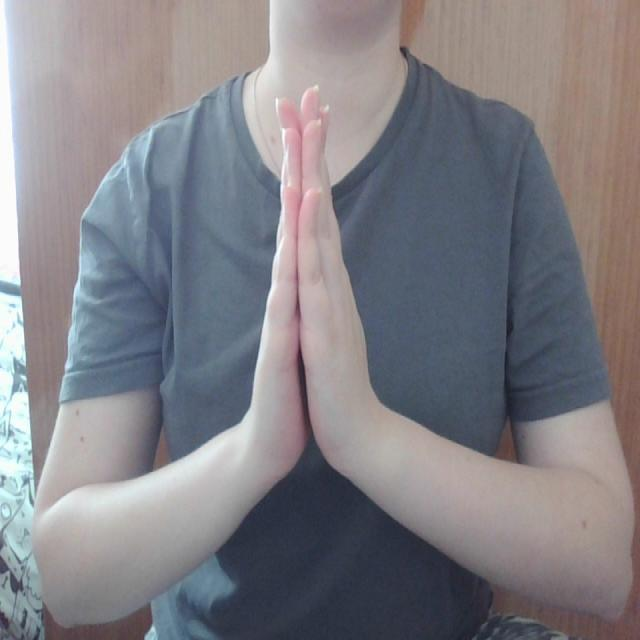Ozur-Dilemek: (240, 75, 391, 509)
